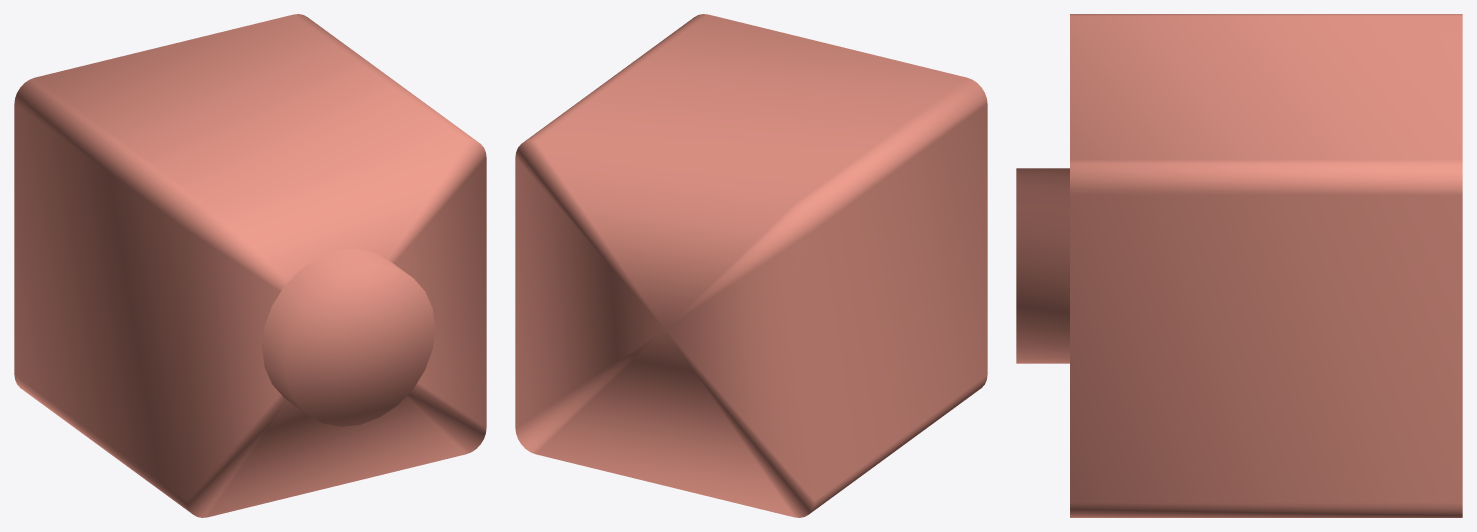
Rendered from block.glb.
3 renders of one model, left to right at view 1: azimuth 30°, elevation 25°; view 2: azimuth 150°, elevation 25°; view 3: azimuth 270°, elevation 25°, orthographic. The views are drawn at different scales.
Visible parts, largest first — view 1: block, stud; view 2: block; view 3: block, stud.
Boxes of the visible parts, <box> form: block: <box>14,14,486,517</box>; stud: <box>262,249,435,426</box>; block: <box>515,14,987,517</box>; block: <box>1070,14,1462,517</box>; stud: <box>1016,168,1069,363</box>.
Bounding box in the file's own units: 0.044 × 0.044 × 0.05.
